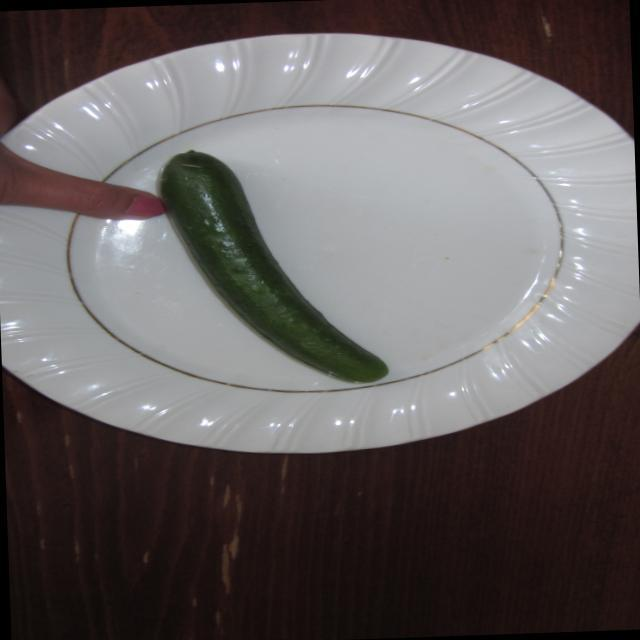Cucumber: (149, 136, 396, 394)
Finger: (49, 160, 162, 228)
